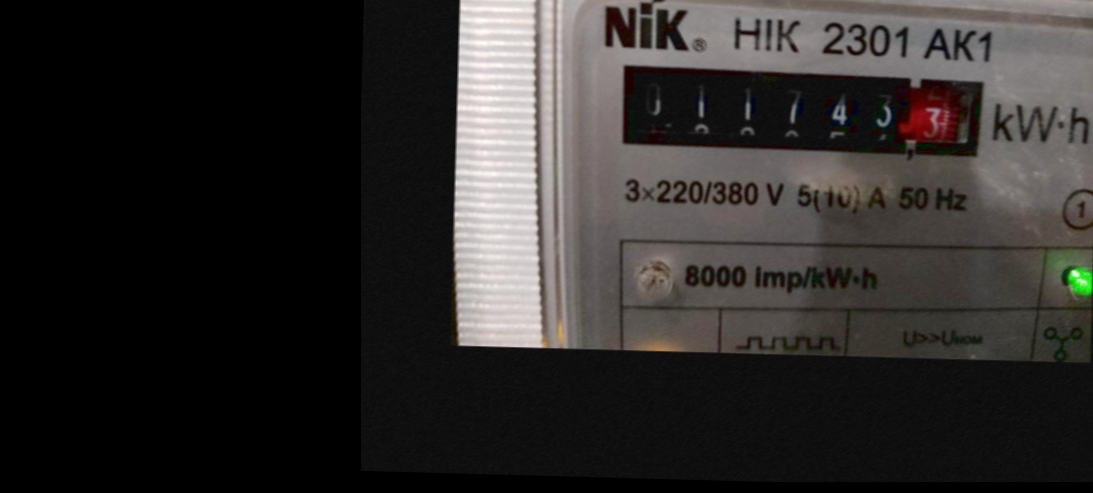0: (642, 78, 665, 118), (692, 78, 711, 120)
1: (739, 81, 756, 122)
3: (874, 87, 895, 131), (921, 102, 942, 140)
4: (829, 86, 850, 127)
7: (782, 82, 806, 127)
screen: (602, 50, 992, 168)
